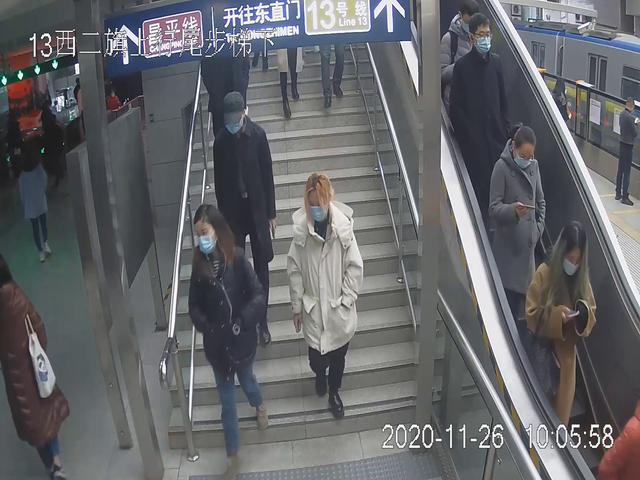person: (187, 204, 274, 480), (285, 167, 366, 422), (212, 89, 280, 350), (523, 217, 594, 452), (1, 248, 72, 480), (450, 8, 508, 234), (492, 118, 547, 349)
